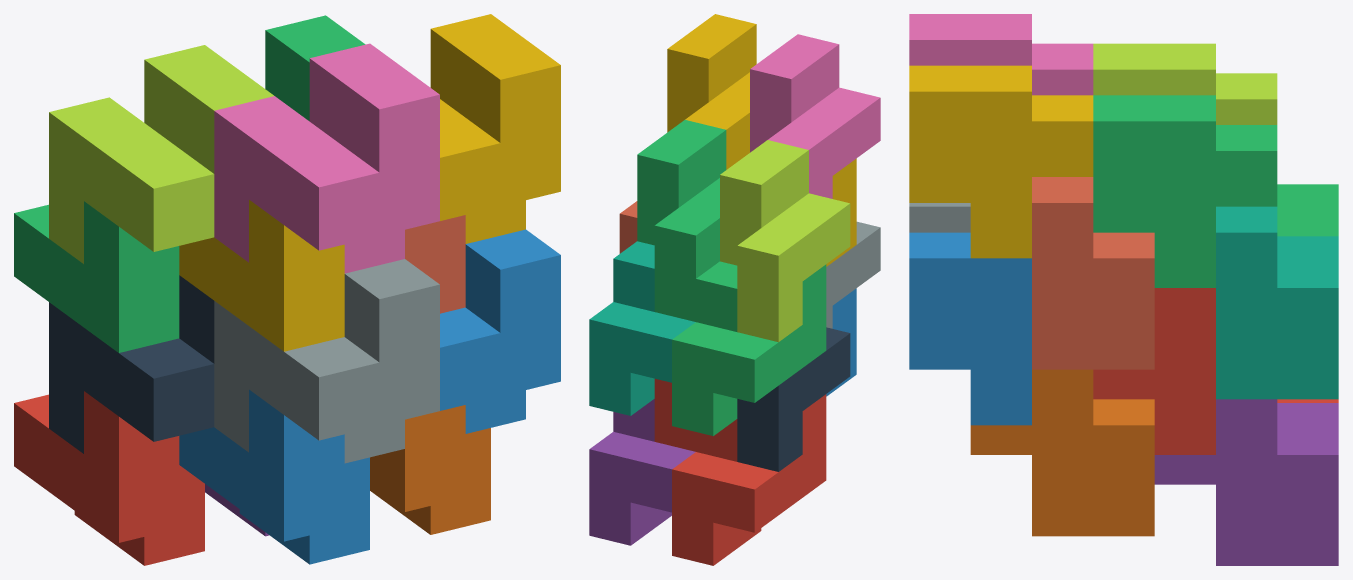
File: tiling.obj
3 views of the same model, side by side, from view 1: azimuth 30°, elevation 25°; view 2: azimuth 150°, elevation 25°; view 3: azimuth 270°, elevation 25° (orthographic). The views are drawn at different scales.
Parts seen in each view (by area): view 1: copy_2_domain_4, copy_2_domain_2, copy_2_domain_3, copy_2_domain_8, copy_1_domain_1, copy_2_domain_6, copy_1_domain_2, copy_2_domain_1, copy_1_domain_3, copy_1_domain_4, copy_1_domain_6, copy_2_domain_7 (+1 smaller); view 2: copy_2_domain_3, copy_1_domain_3, copy_1_domain_1, copy_2_domain_7, copy_2_domain_4, copy_1_domain_7, copy_1_domain_5, copy_2_domain_8, copy_2_domain_1, copy_2_domain_2, copy_2_domain_5, copy_1_domain_4 (+2 smaller); view 3: copy_2_domain_8, copy_2_domain_7, copy_1_domain_5, copy_1_domain_7, copy_1_domain_6, copy_1_domain_8, copy_2_domain_6, copy_2_domain_5, copy_2_domain_3, copy_2_domain_4, copy_1_domain_3, copy_2_domain_2.
Part boxes in pixels (bbox=[...]): copy_2_domain_4: bbox=[214, 43, 439, 273]; copy_2_domain_2: bbox=[214, 259, 439, 463]; copy_2_domain_3: bbox=[49, 45, 273, 263]; copy_2_domain_8: bbox=[430, 14, 560, 243]; copy_1_domain_1: bbox=[14, 391, 204, 565]; copy_2_domain_6: bbox=[440, 229, 560, 433]; copy_1_domain_2: bbox=[179, 389, 369, 564]; copy_2_domain_1: bbox=[49, 275, 214, 453]; copy_1_domain_3: bbox=[14, 201, 179, 352]; copy_1_domain_4: bbox=[179, 200, 344, 351]; copy_1_domain_6: bbox=[370, 405, 490, 534]; copy_2_domain_7: bbox=[265, 15, 365, 121]; copy_2_domain_3: bbox=[720, 140, 850, 342]; copy_1_domain_3: bbox=[672, 261, 826, 435]; copy_1_domain_1: bbox=[672, 394, 826, 565]; copy_2_domain_7: bbox=[637, 120, 726, 321]; copy_2_domain_4: bbox=[750, 34, 880, 198]; copy_1_domain_7: bbox=[589, 241, 695, 415]; copy_1_domain_5: bbox=[589, 399, 695, 545]; copy_2_domain_8: bbox=[667, 14, 756, 169]; copy_2_domain_1: bbox=[737, 327, 850, 471]; copy_2_domain_2: bbox=[826, 221, 880, 328]; copy_2_domain_5: bbox=[654, 378, 695, 451]; copy_1_domain_4: bbox=[826, 158, 856, 266]; copy_2_domain_8: bbox=[909, 65, 1093, 258]; copy_2_domain_7: bbox=[1093, 95, 1277, 287]; copy_1_domain_5: bbox=[1154, 399, 1338, 565]; copy_1_domain_7: bbox=[1216, 206, 1338, 399]; copy_1_domain_6: bbox=[970, 369, 1154, 536]; copy_1_domain_8: bbox=[1032, 177, 1154, 369]; copy_2_domain_6: bbox=[909, 232, 1031, 425]; copy_2_domain_5: bbox=[1093, 288, 1215, 454]; copy_2_domain_3: bbox=[1093, 43, 1277, 124]; copy_2_domain_4: bbox=[909, 14, 1093, 95]; copy_1_domain_3: bbox=[1277, 184, 1338, 236]; copy_2_domain_2: bbox=[909, 203, 970, 232].
Size of the model in its own units: 5 by 9 by 7.
